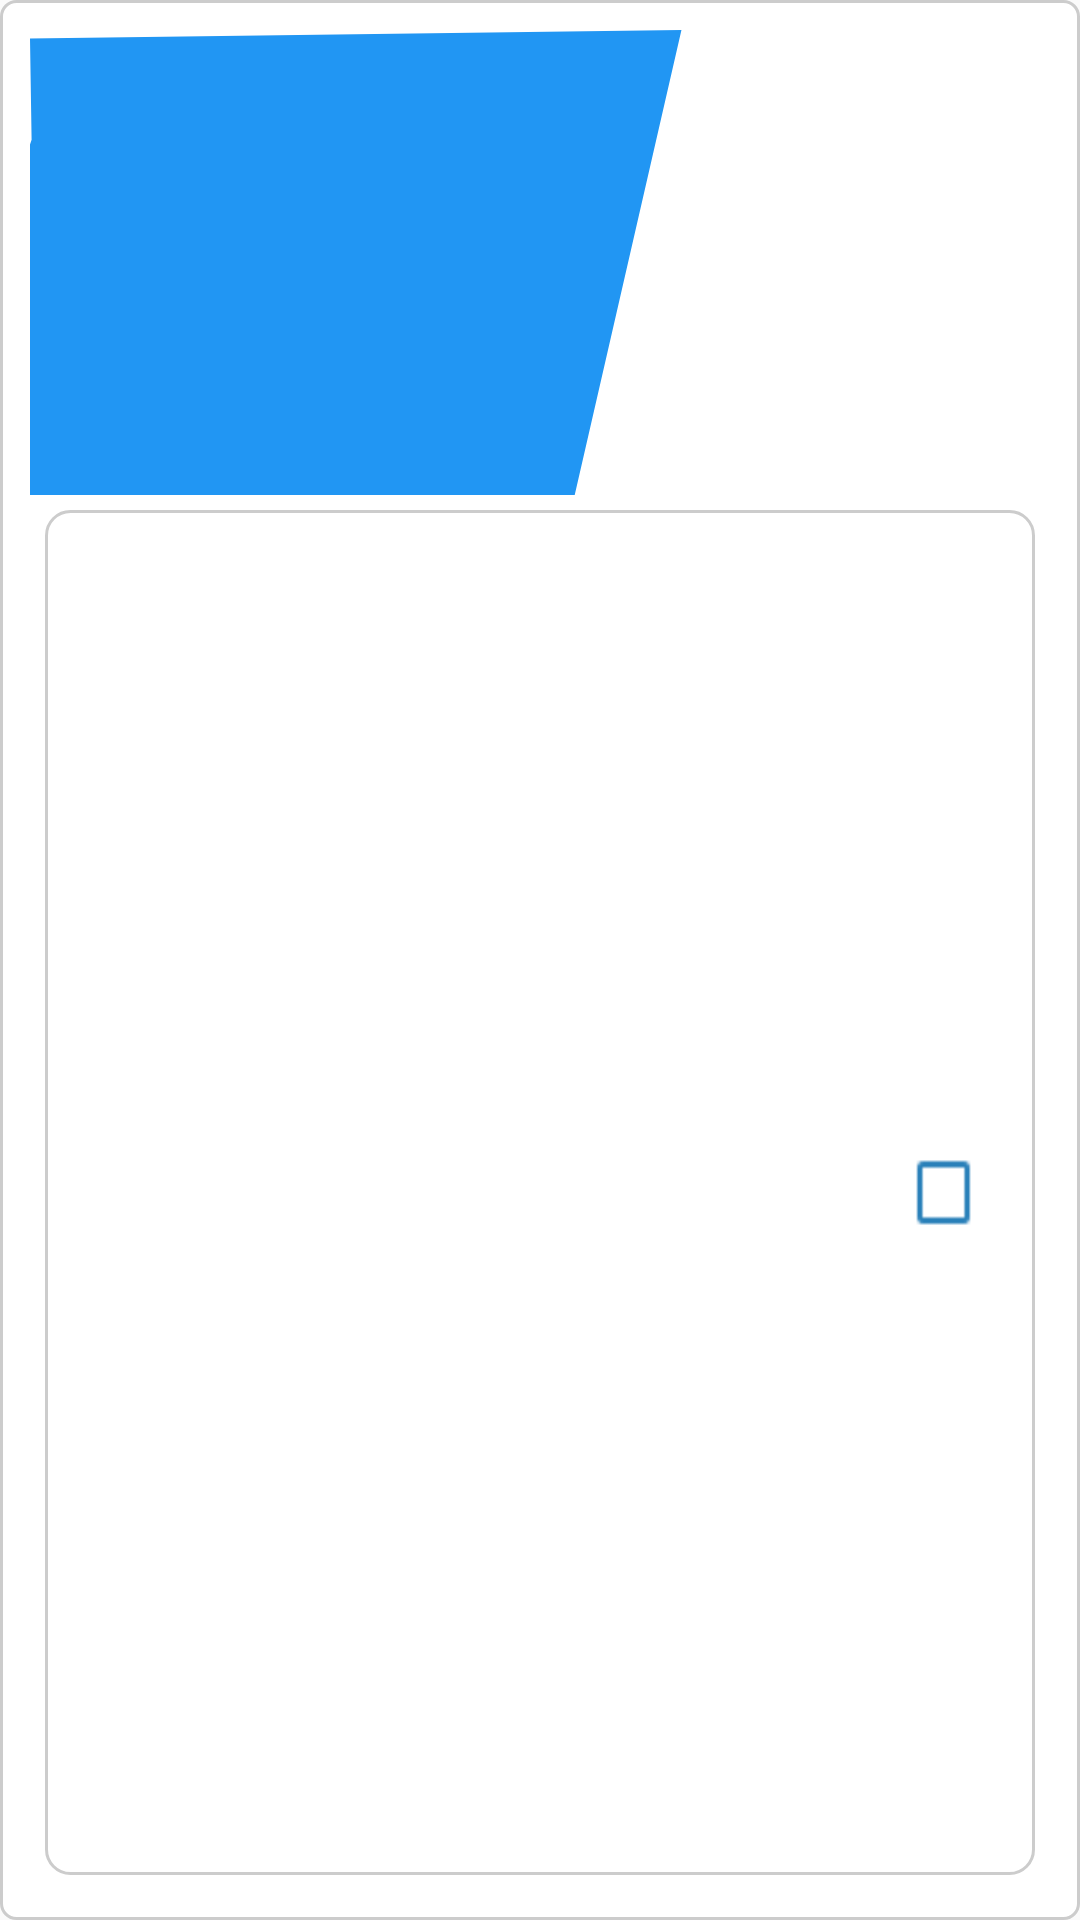

Named icons in this screenshot (1080w x 1920h) and their bounding boxes, (x1, y1, x2, y2):
unchecked: (916, 1160, 971, 1225)
